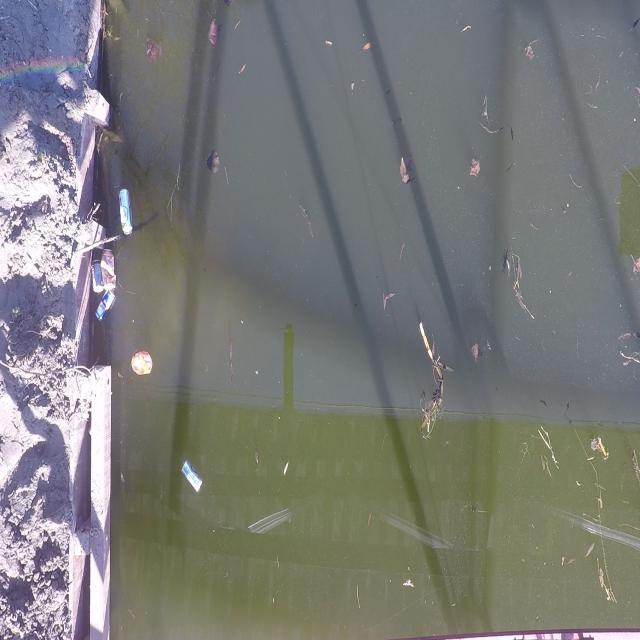Non plastique: (182, 461, 202, 493), (96, 291, 116, 320), (120, 190, 132, 234), (102, 250, 115, 288), (132, 353, 152, 375), (92, 260, 102, 293)
